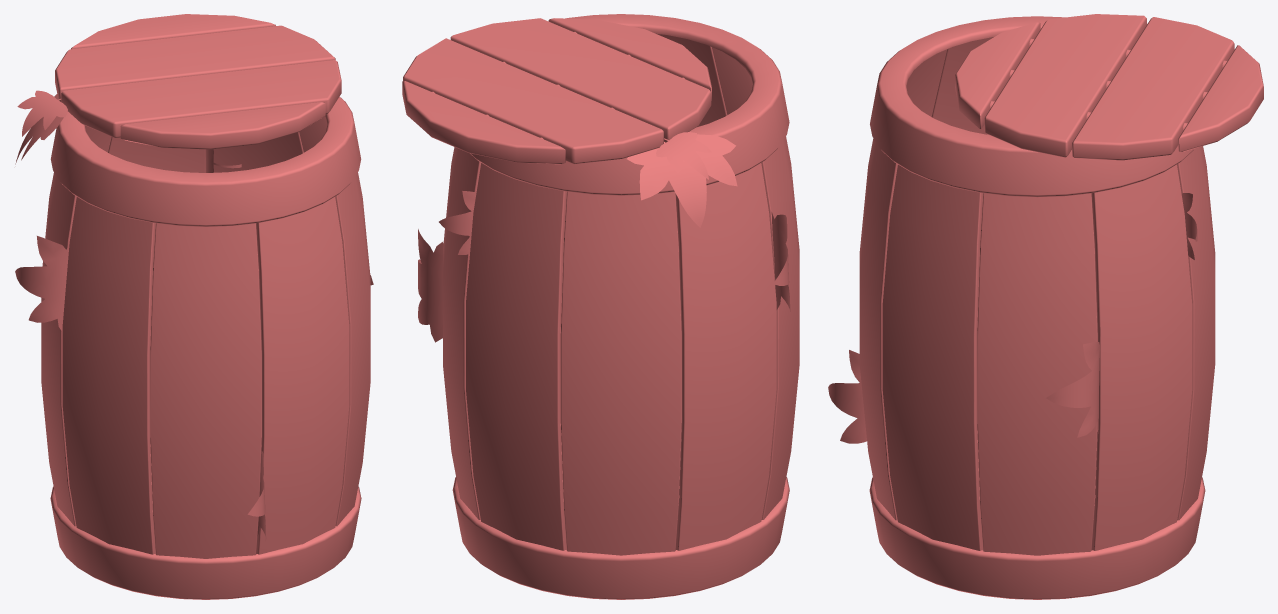
The model's file is HalloweenRoomA_BarrelB.fbx.
The picture shows the model from 3 angles, left to right: view 1: azimuth 30°, elevation 25°; view 2: azimuth 150°, elevation 25°; view 3: azimuth 270°, elevation 25°; orthographic projection. The views are drawn at different scales.
Parts seen in each view (by area): view 1: HalloweenRoomA_BarrelB; view 2: HalloweenRoomA_BarrelB; view 3: HalloweenRoomA_BarrelB.
Part boxes in pixels (x1=…): HalloweenRoomA_BarrelB: x1=15, y1=14, x2=373, y2=599; HalloweenRoomA_BarrelB: x1=402, y1=14, x2=799, y2=599; HalloweenRoomA_BarrelB: x1=828, y1=14, x2=1263, y2=599.
Bounding box in the file's own units: 52.92 × 64.48 × 54.24.
